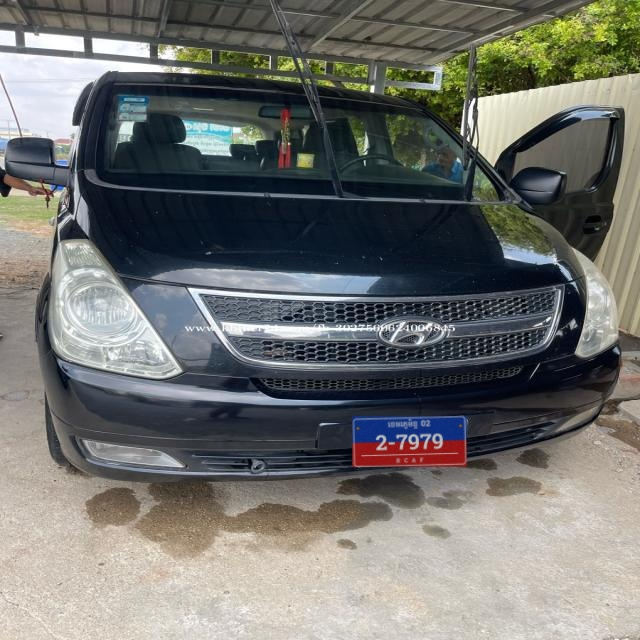Plate Number: (352, 416, 467, 468)
